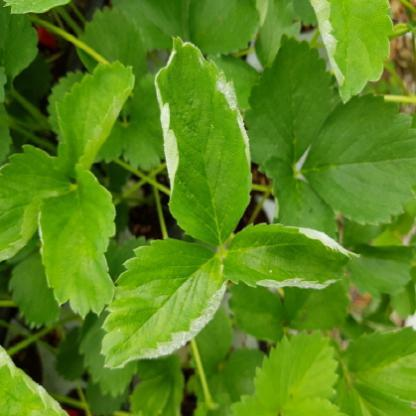Strawberry_Powdery_Mildew_Leaf: (154, 34, 252, 246), (99, 237, 227, 369), (222, 222, 363, 290), (309, 0, 395, 106)
